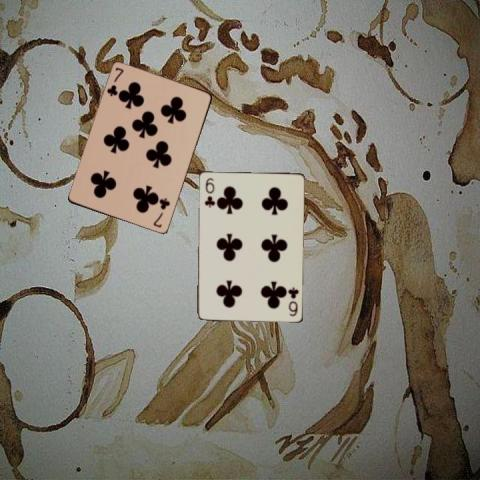6c: (285, 284, 300, 317), (202, 175, 216, 208)
7c: (104, 65, 125, 98), (151, 196, 171, 229)
